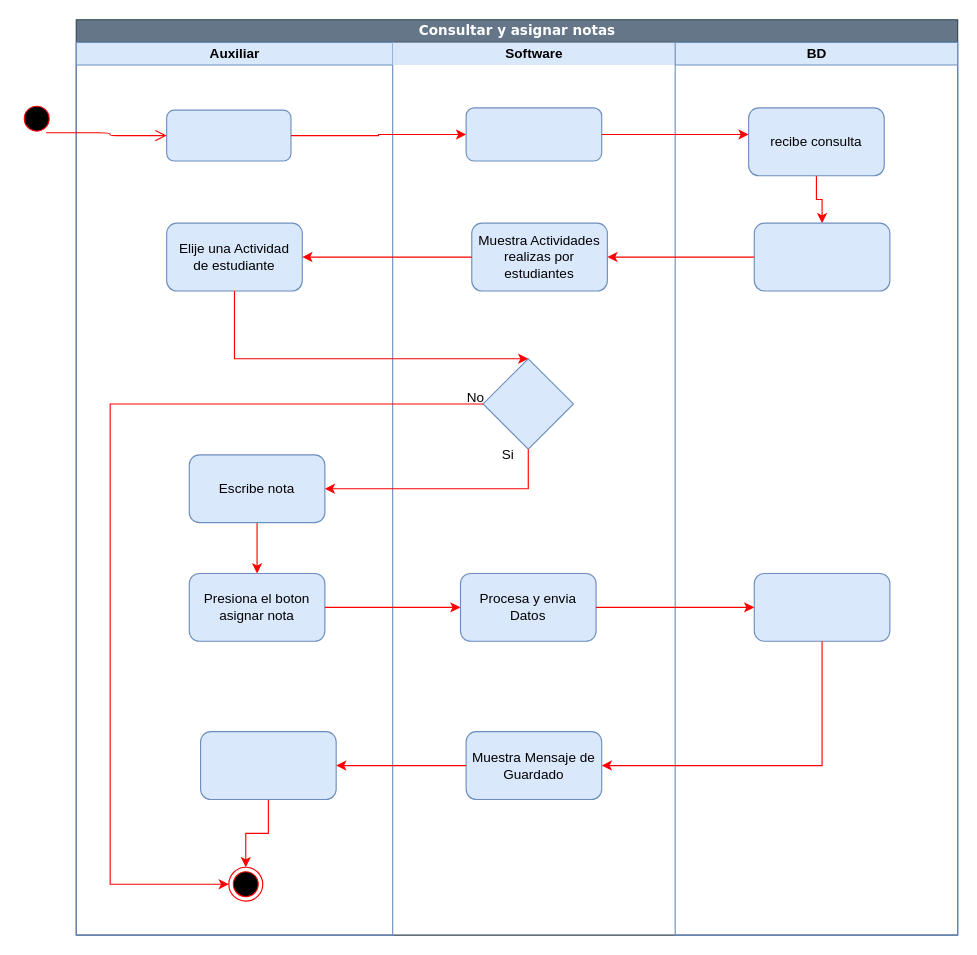
The diagram is 977 pixels wide and 955 high, and some of its shapes have lost their labels. The shapes that lost their labels are listed below. From the top down, each one's centre as x and y in pixels, then its label:
At pixel 228 135: "ingresa al modulo crear nota".
At pixel 533 134: "Consulta actividades guardadas".
At pixel 821 256: "devuelve actividades realizadas".
At pixel 527 403: "Ingresar nota?".
At pixel 821 606: "Guarda Nota de actividad".
At pixel 267 765: "Visualiza Mensaje".
